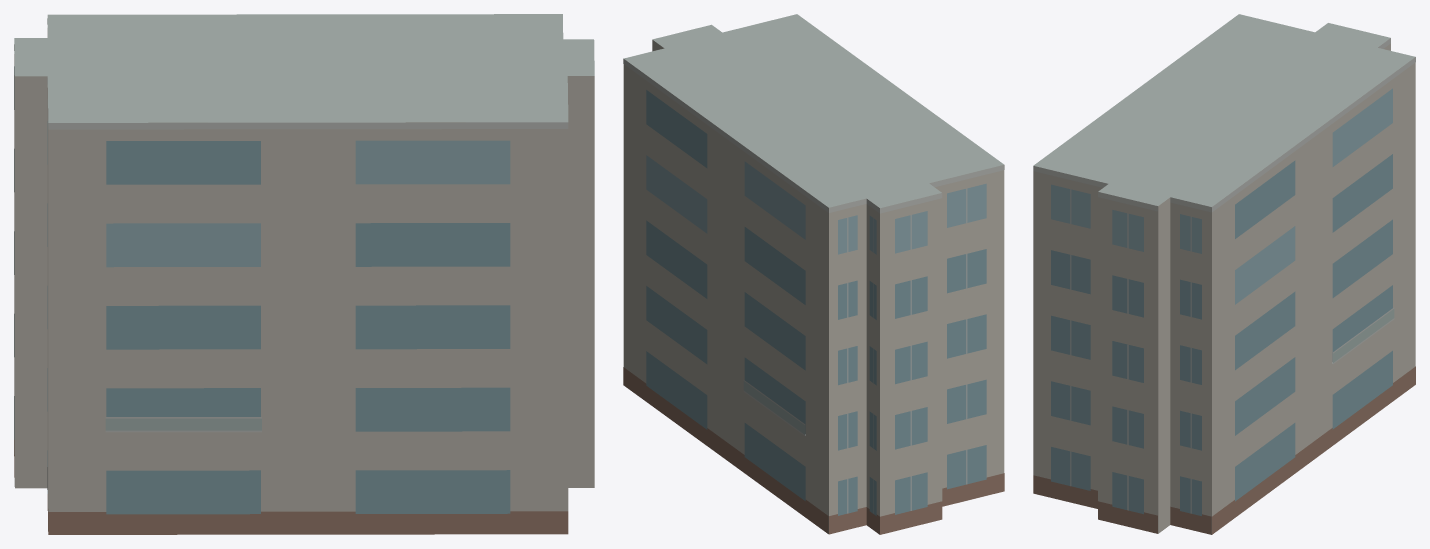
Rendered from survey-upis-32967082.glb.
3 views of the same model, side by side, from view 1: azimuth 30°, elevation 25°; view 2: azimuth 150°, elevation 25°; view 3: azimuth 270°, elevation 25° (orthographic). The views are drawn at different scales.
Parts seen in each view (by area): view 1: survey-upis-32967082.tmp; view 2: survey-upis-32967082.tmp; view 3: survey-upis-32967082.tmp.
Boxes of the visible parts, x1=… form: survey-upis-32967082.tmp: x1=14, y1=14, x2=594, y2=534; survey-upis-32967082.tmp: x1=623, y1=14, x2=1004, y2=534; survey-upis-32967082.tmp: x1=1033, y1=14, x2=1415, y2=534.
Size of the model in its own units: 18.84 by 14.9 by 15.77.
